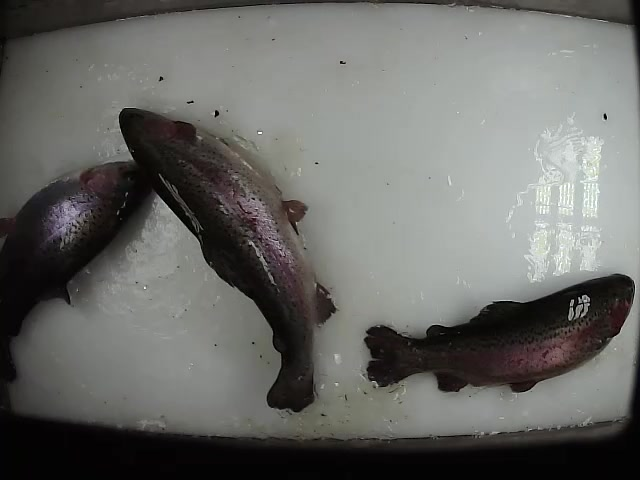fish: (114, 100, 339, 416), (1, 150, 161, 429), (361, 271, 637, 395)
